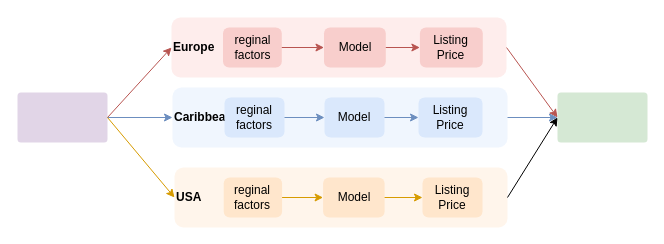
Image size: 664x244. Some labels were removed from this diagram. The shapes that lost their labels are listed below. From the top down, each one's centre as x and y in pixels, then its label:
(x=62, y=117): Sailingboats to be assessed
(x=602, y=117): Target maket Listing Price
